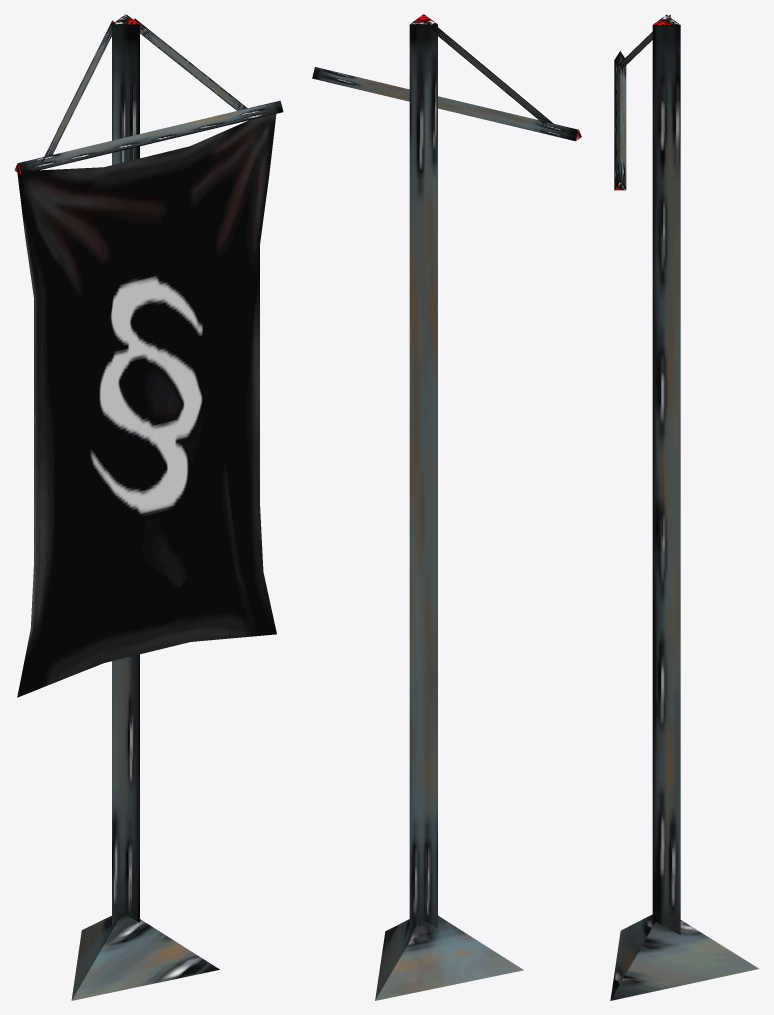
Rendered from Fahne1_537.glb.
3 views of the same model, side by side, from view 1: azimuth 30°, elevation 25°; view 2: azimuth 150°, elevation 25°; view 3: azimuth 270°, elevation 25° (orthographic).
Parts seen in each view (by area): view 1: pPlaneShape17, pCylinderShape20, pSphereShape36, pCylinderShape21, pPlaneShape15, pPlaneShape16; view 2: pCylinderShape20, pSphereShape36, pCylinderShape21, pPlaneShape16; view 3: pCylinderShape20, pSphereShape36, pCylinderShape21.
Boxes of the visible parts, <box> form: pPlaneShape17: <box>17,114,276,697</box>; pCylinderShape20: <box>112,14,139,925</box>; pSphereShape36: <box>71,913,219,1000</box>; pCylinderShape21: <box>14,100,283,174</box>; pPlaneShape15: <box>134,18,249,120</box>; pPlaneShape16: <box>41,20,114,162</box>; pCylinderShape20: <box>409,14,437,934</box>; pSphereShape36: <box>375,915,523,1000</box>; pCylinderShape21: <box>312,67,581,141</box>; pPlaneShape16: <box>430,23,553,123</box>; pCylinderShape20: <box>652,14,680,934</box>; pSphereShape36: <box>610,914,758,1000</box>; pCylinderShape21: <box>614,51,626,190</box>.
Size of the model in its own units: 0.5231 by 1.8 by 0.2562.
Materials: 6 (6 with a texture image).
